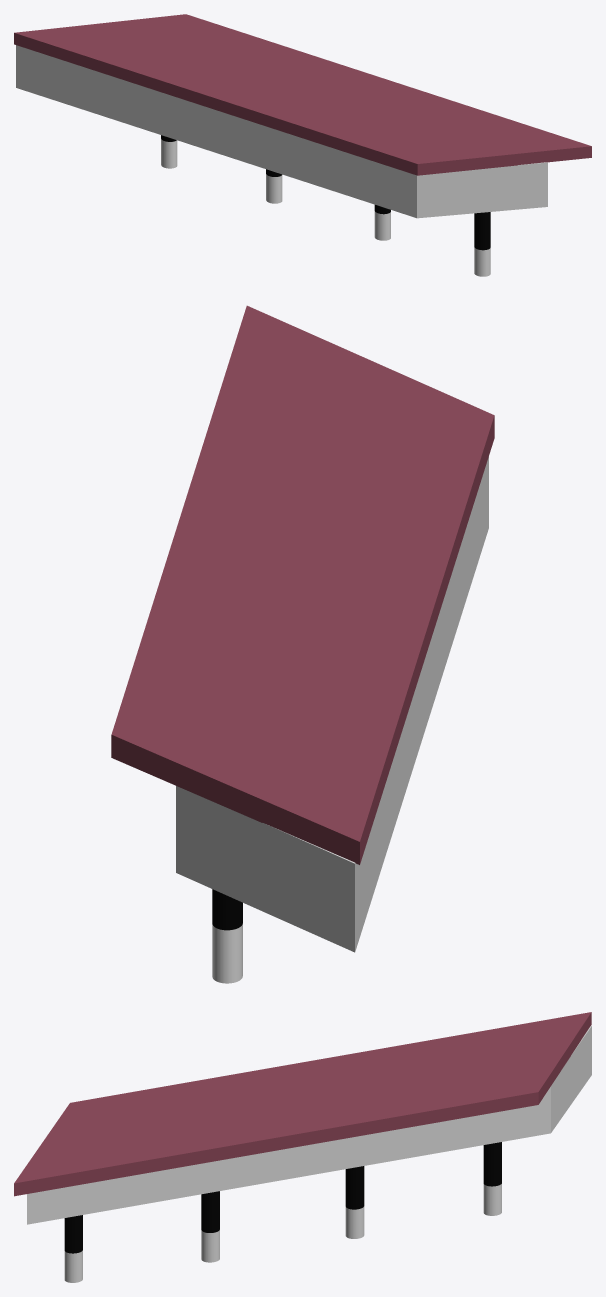
Rendered from akuberserah.glb.
3 renders of one model, top to bottom at view 1: azimuth 30°, elevation 25°; view 2: azimuth 150°, elevation 25°; view 3: azimuth 270°, elevation 25°, orthographic. The views are drawn at different scales.
Parts seen in each view (by area): view 1: Plane.027, Cube.010, Cylinder.068, Cylinder.069, Cylinder.070, Cylinder.071; view 2: Plane.027, Cube.010, Cylinder.071; view 3: Plane.027, Cube.010, Cylinder.070, Cylinder.071, Cylinder.069, Cylinder.068.
Part boxes in pixels (x1,y1,x2,y2): Plane.027: [14, 14, 591, 175]; Cube.010: [16, 45, 547, 218]; Cylinder.068: [474, 212, 490, 276]; Cylinder.069: [374, 205, 390, 240]; Cylinder.070: [266, 169, 282, 203]; Cylinder.071: [161, 135, 177, 168]; Plane.027: [111, 305, 494, 864]; Cube.010: [176, 456, 488, 952]; Cylinder.071: [212, 889, 242, 983]; Plane.027: [14, 1012, 591, 1196]; Cube.010: [27, 1026, 591, 1224]; Cylinder.070: [345, 1166, 364, 1238]; Cylinder.071: [483, 1142, 501, 1215]; Cylinder.069: [201, 1191, 219, 1262]; Cylinder.068: [64, 1215, 82, 1282].
Bounding box in the file's own units: 1.57 × 0.5998 × 2.24.
